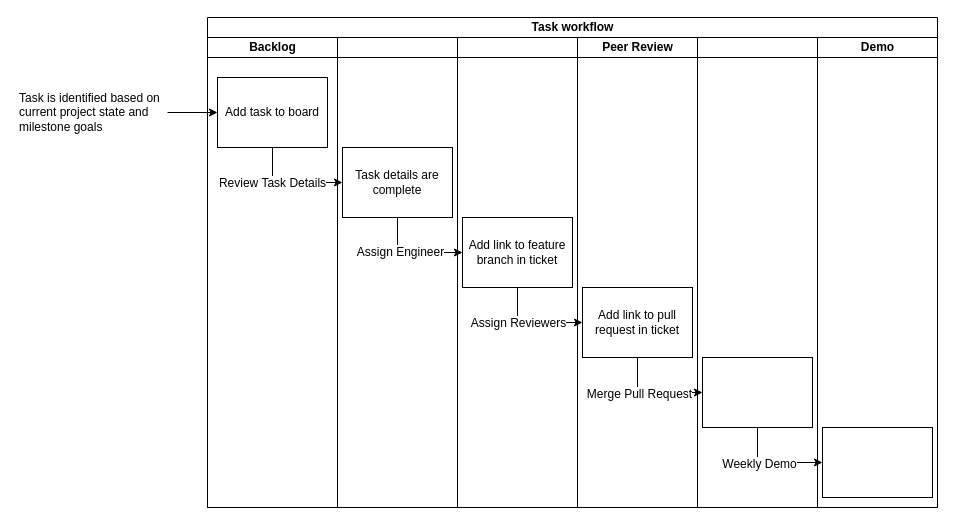
This 955x525 diagram has some shape labels left out. Here are the shapes that lost their labels. From the top down, the box of each, then its label:
(336, 36, 458, 508): To Do
(456, 36, 578, 508): In Progress
(696, 36, 818, 508): Done
(702, 356, 812, 428): Remove feature branch from repository
(822, 426, 932, 498): Project demo to stakeholders
